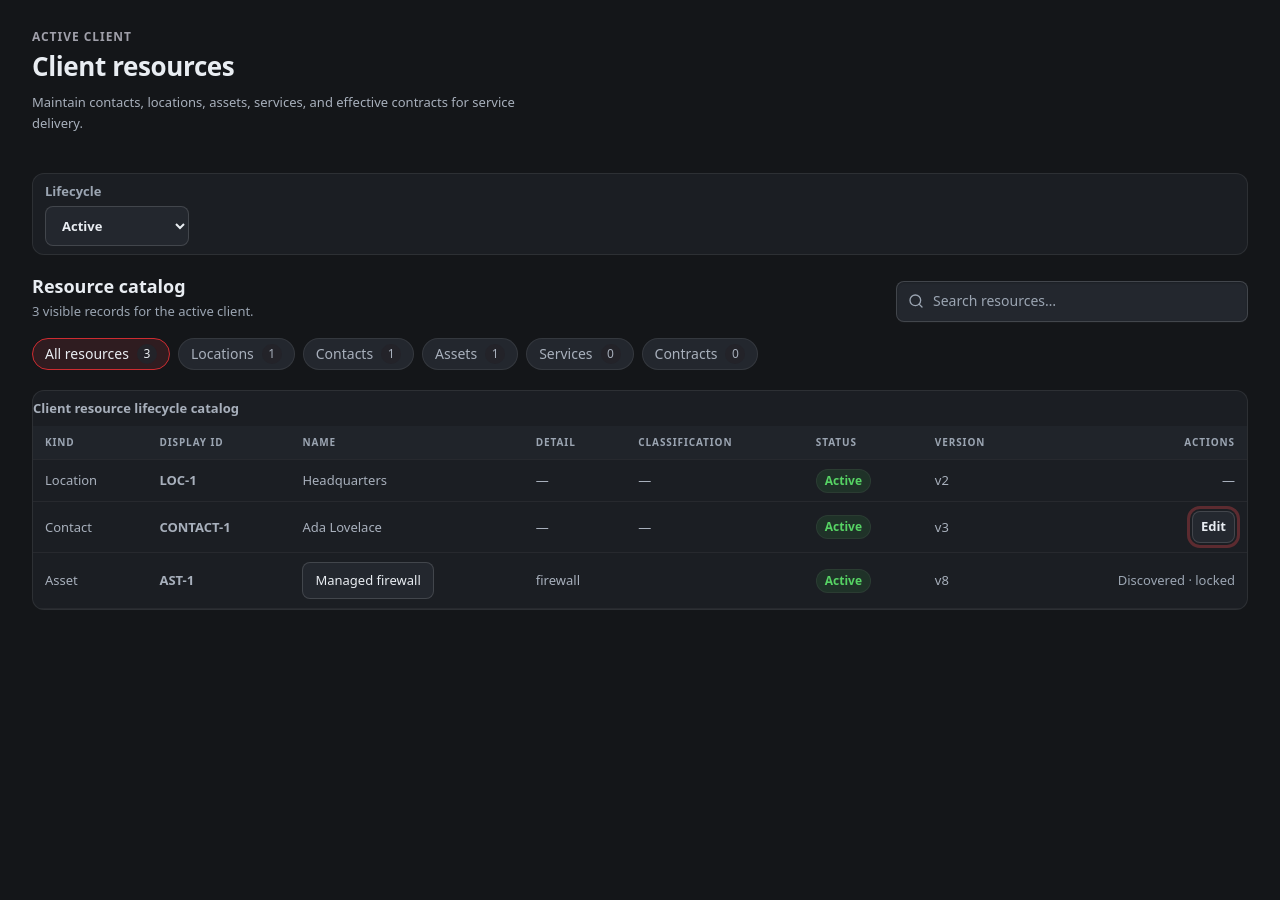
it: edits an exact resource with quoted If-Match, reason, and explicit clears
This screenshot has width=1280, height=900.
Press Enter
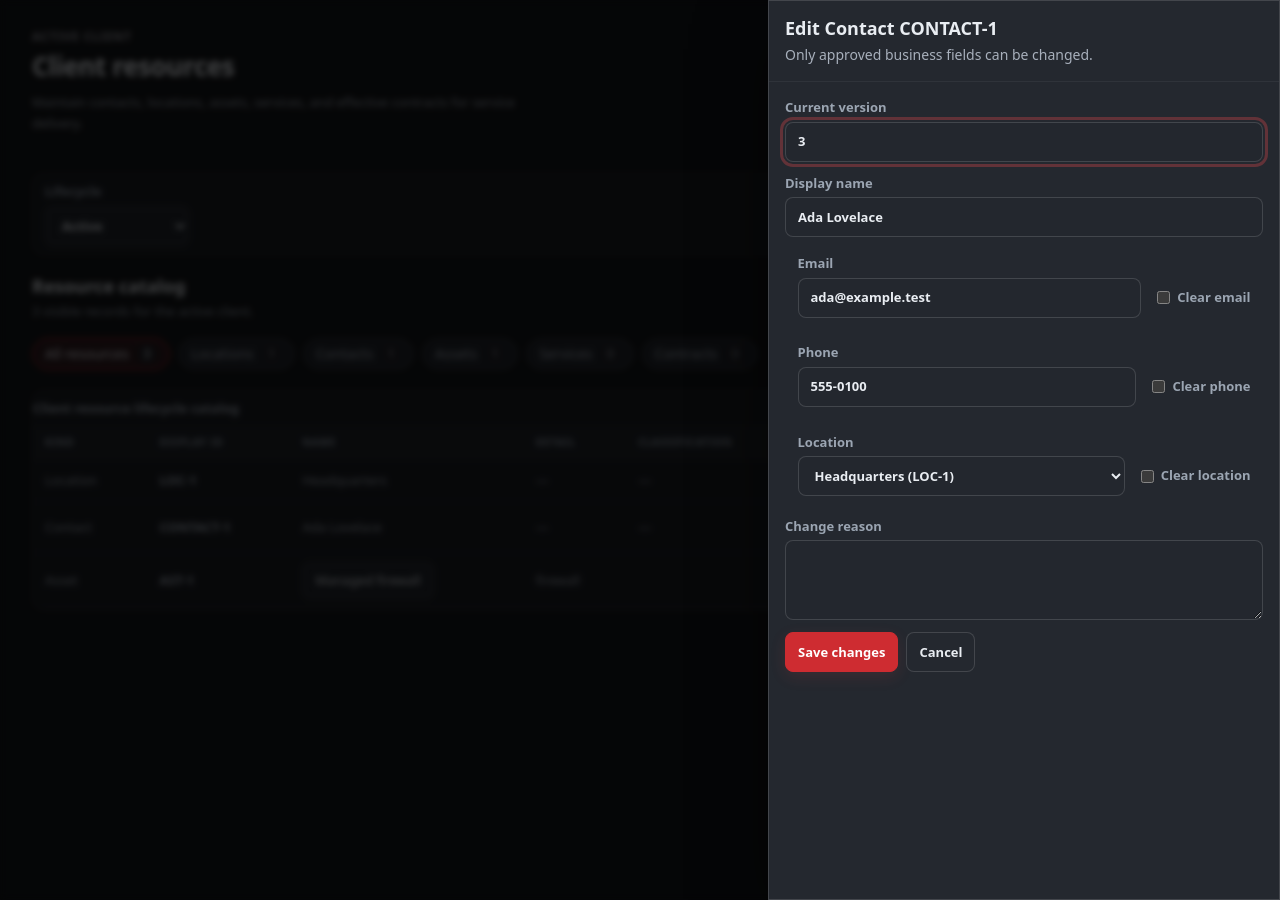
Check: the dialog "Edit Contact CONTACT-1" is shown, box top-left (768, 0), bottom-right (1279, 899)
Check: the field labelled "Current version" holds "3", box top-left (785, 122), bottom-right (1263, 162)
Click the checkbox labelled "Clear email" at (1164, 298), box top-left (1157, 291), bottom-right (1170, 304)
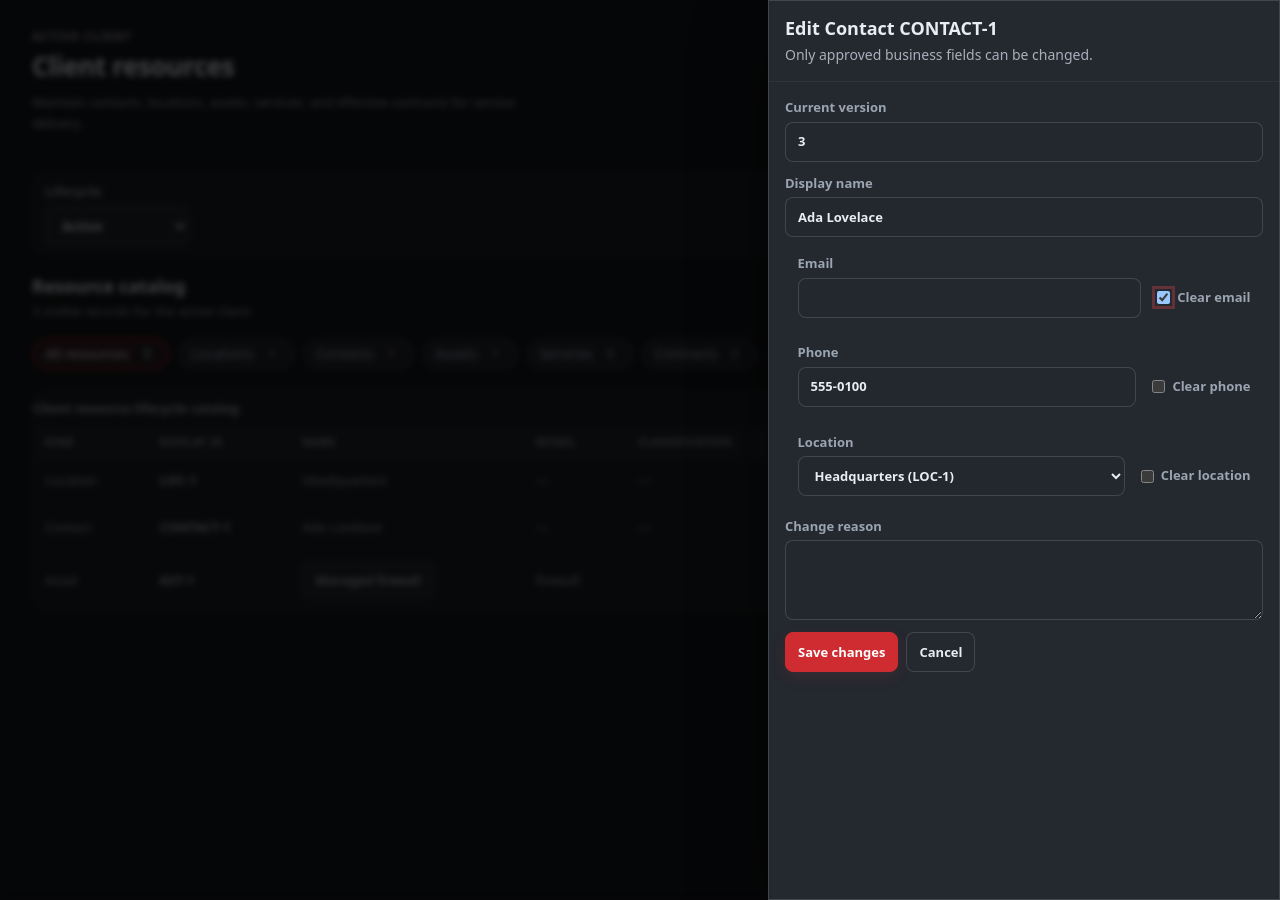
Replace the text in the field labelled "Display name" with "Ada Byron" at (1024, 217), box top-left (785, 197), bottom-right (1263, 237)
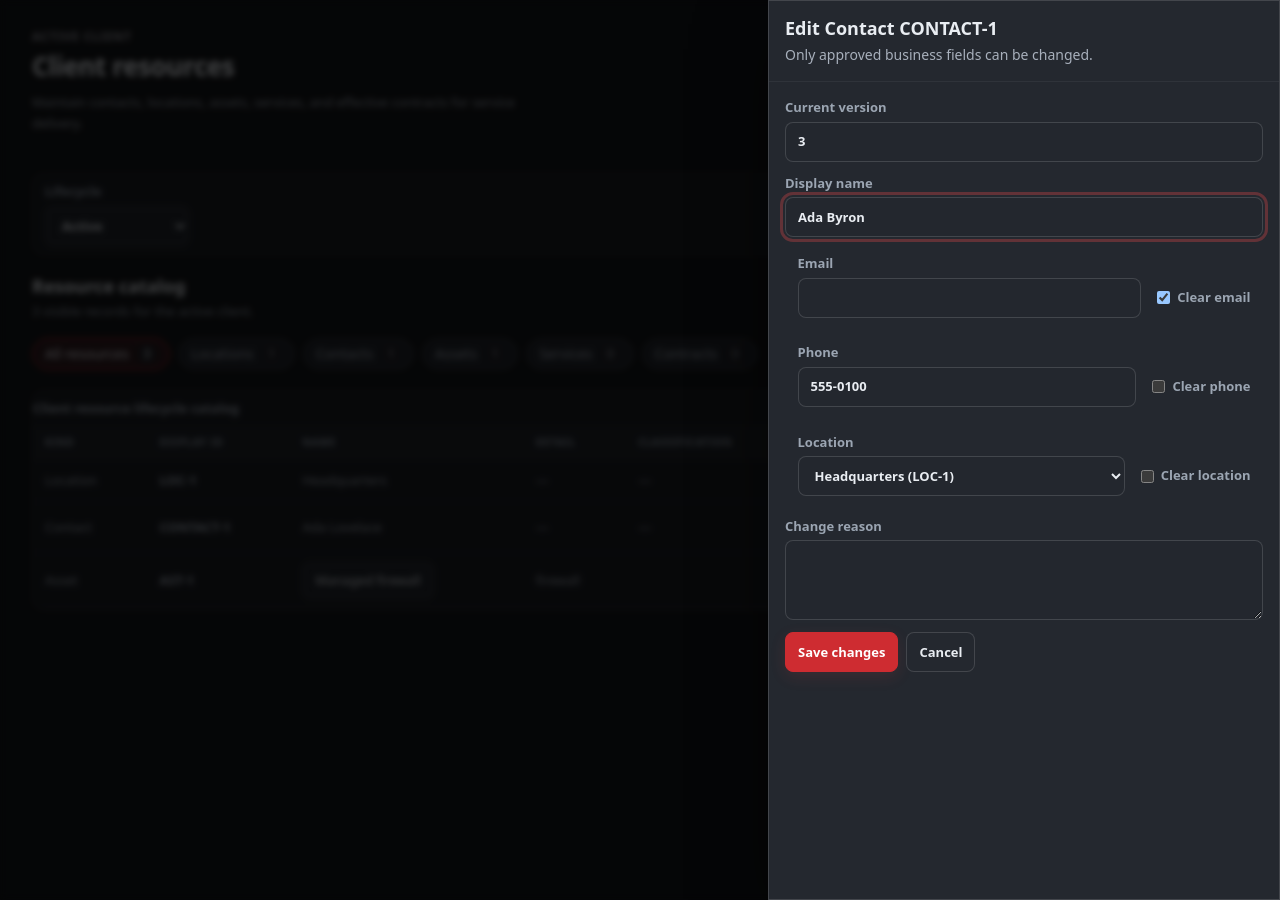
Type "Correct contact record" into the text box labelled "Change reason" at (1024, 580), box top-left (785, 540), bottom-right (1263, 620)
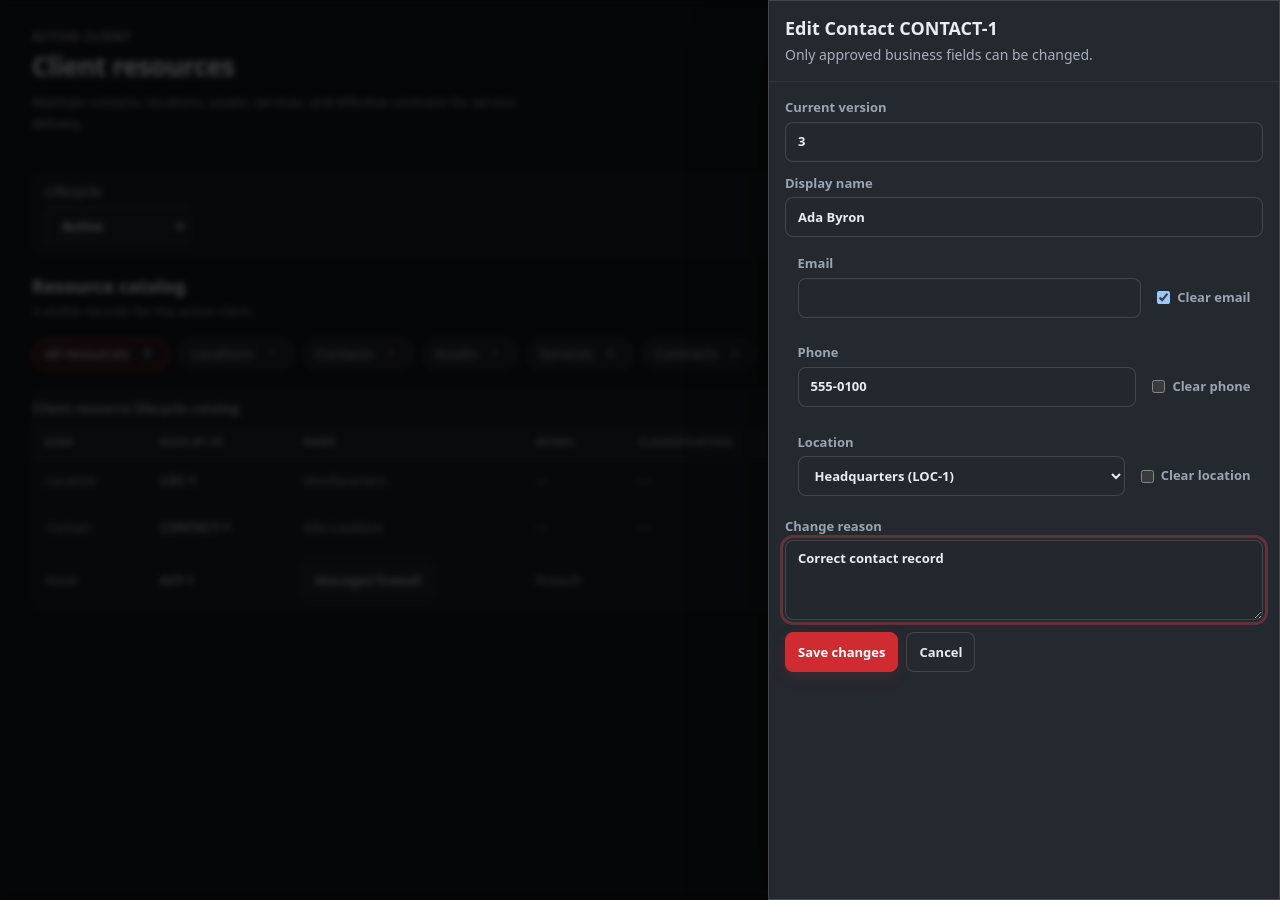
Click the button "Save changes" at (842, 652), box top-left (785, 632), bottom-right (898, 672)
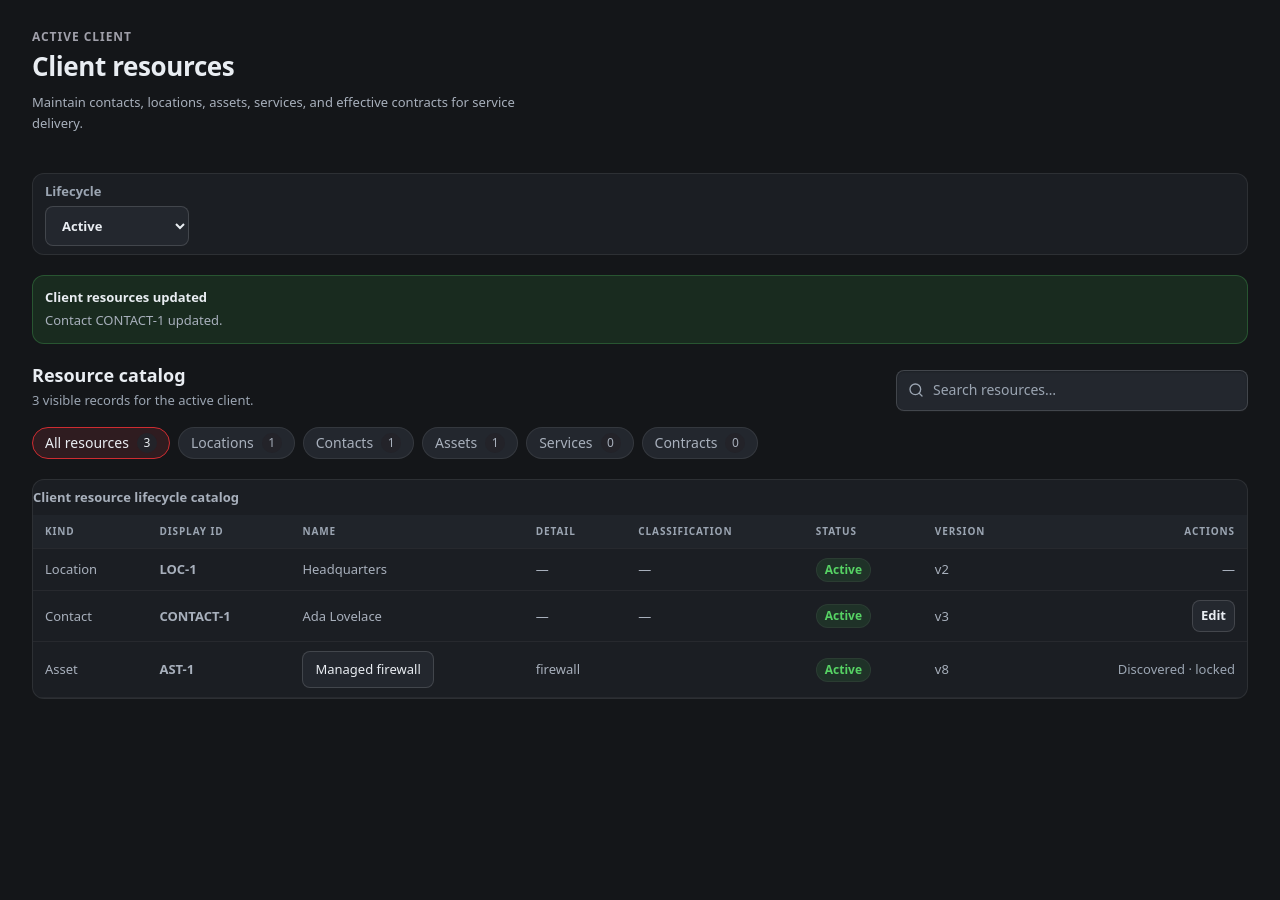
Check: the text "ada@example.test" is not shown
Check: the text "Contact CONTACT-1 updated." is shown, box top-left (45, 311), bottom-right (222, 329)
